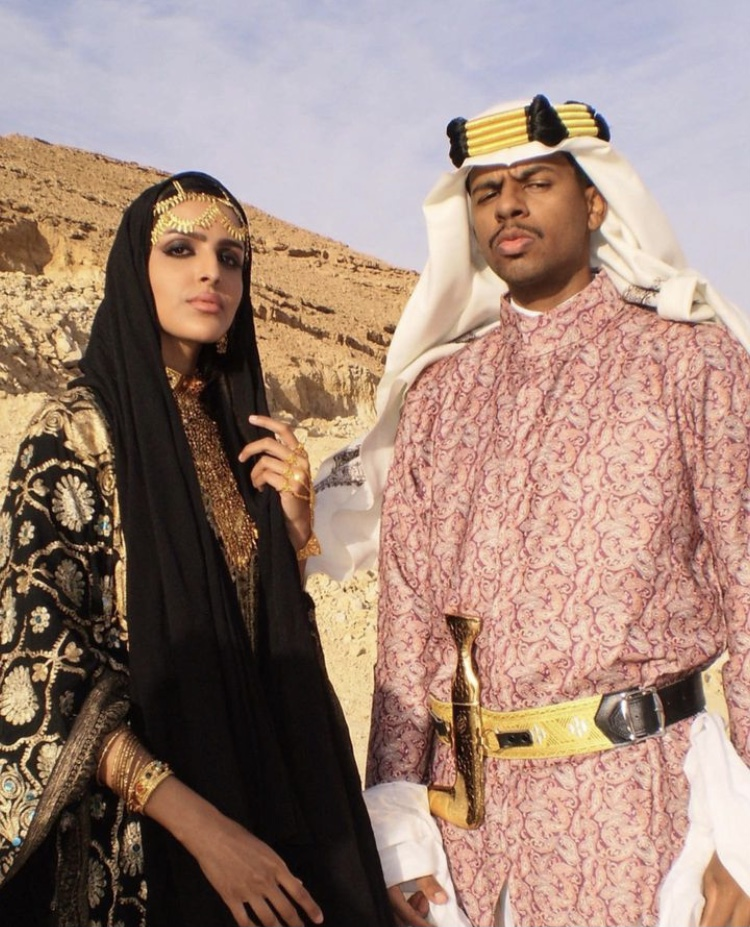Saudi_Founding_Day: (304, 87, 749, 927), (2, 166, 394, 927)
